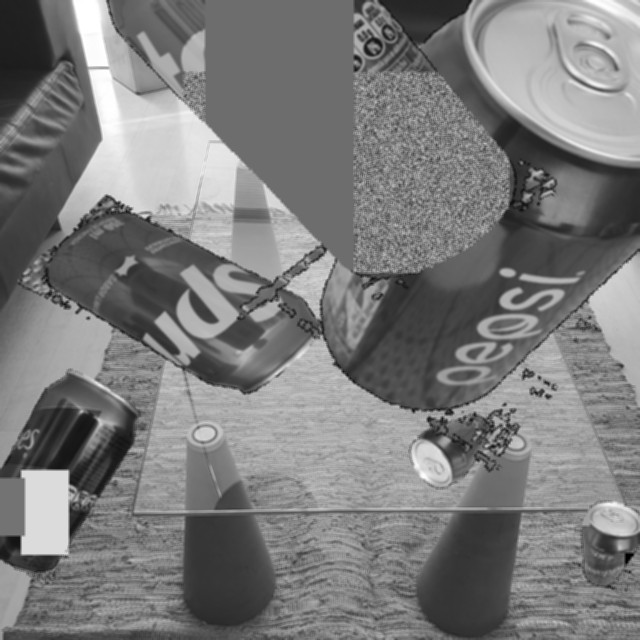pepsi: (213, 0, 640, 516)
schweppes: (0, 363, 146, 584), (401, 398, 505, 494), (569, 496, 640, 594)
sprite: (57, 0, 570, 363), (18, 144, 337, 460), (198, 0, 362, 123)
